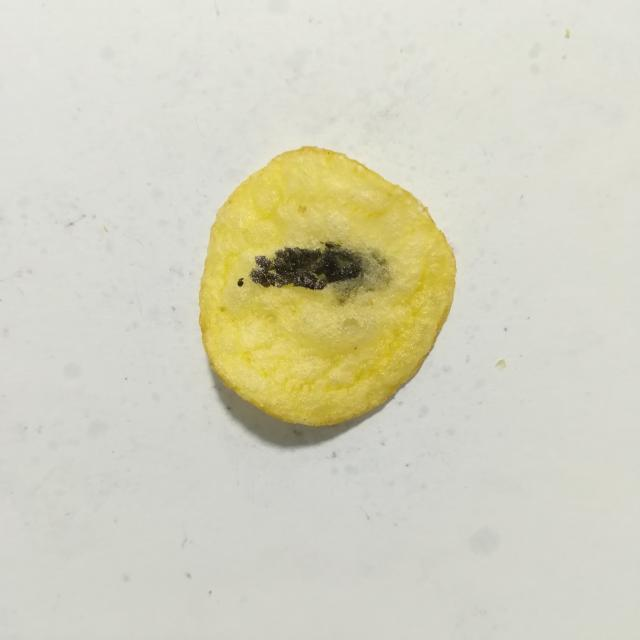chip: (199, 147, 456, 426)
damaged: (250, 243, 364, 290), (237, 278, 244, 287)
semi-damaged: (325, 237, 390, 303)
